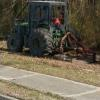Tractor: (7, 4, 81, 60)
